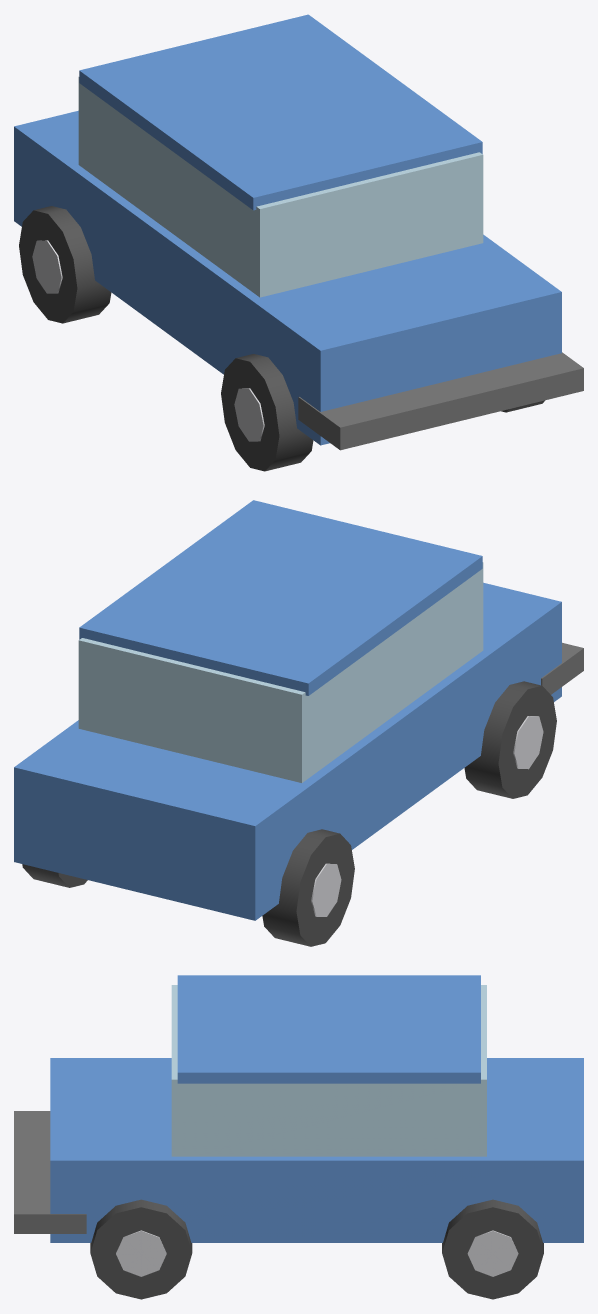
Rendered from suv.glb.
3 renders of one model, top to bottom at view 1: azimuth 30°, elevation 25°; view 2: azimuth 150°, elevation 25°; view 3: azimuth 270°, elevation 25°, orthographic. The views are drawn at different scales.
Parts seen in each view (by area): view 1: root; view 2: root; view 3: root.
Boxes of the visible parts, left/top/right/bottom form: root: left=14, top=14, right=583, bottom=471; root: left=14, top=500, right=583, bottom=946; root: left=14, top=975, right=583, bottom=1299.
Size of the model in its own units: 2.32 by 1.97 by 4.7.
